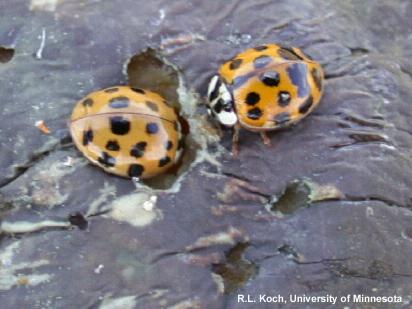asian multicolored lady: (197, 36, 332, 148), (68, 78, 186, 176)
